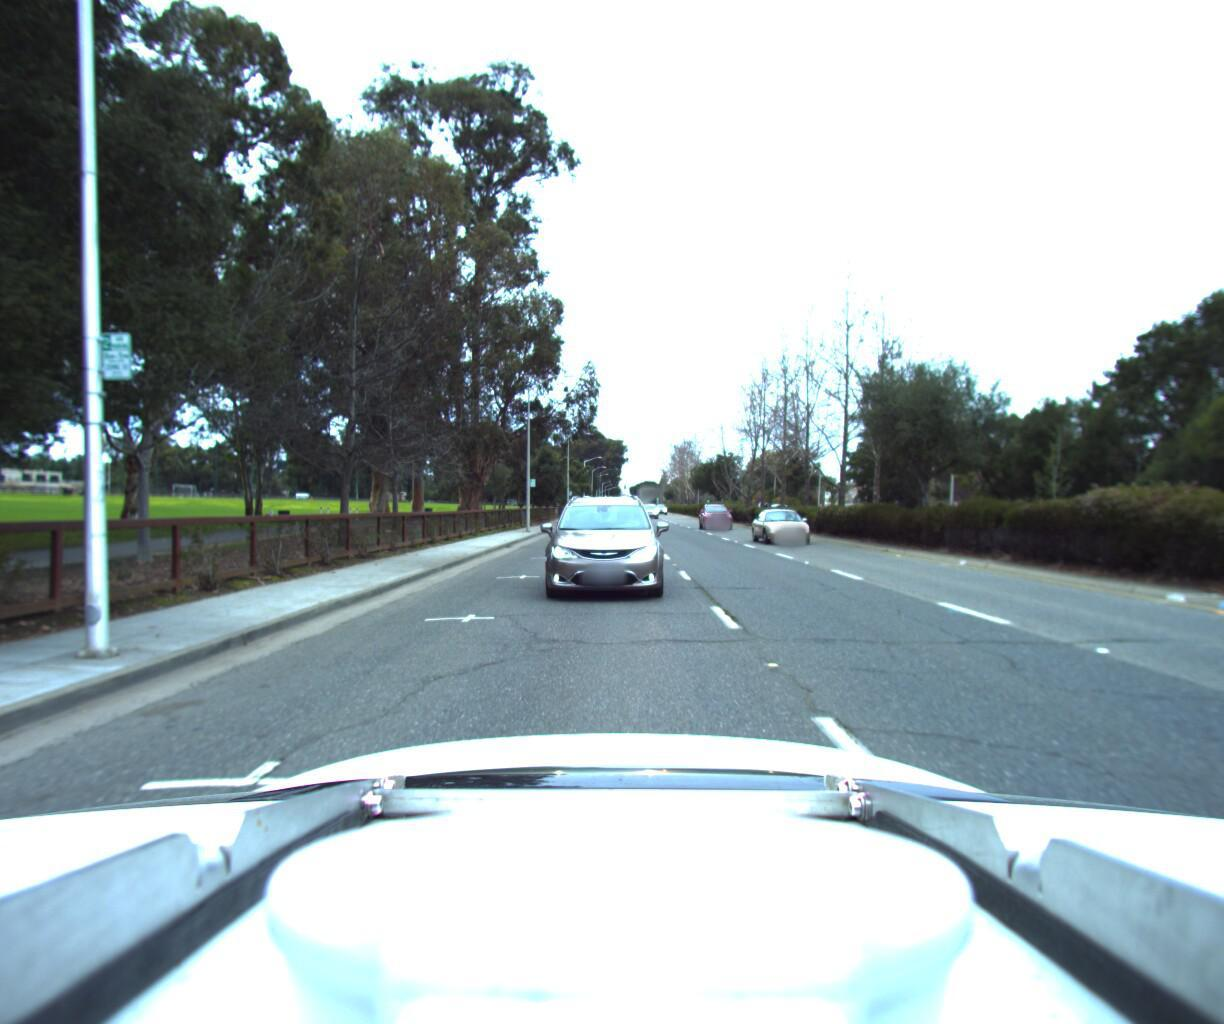car: (537, 483, 663, 598), (754, 502, 819, 542), (697, 495, 735, 522)
